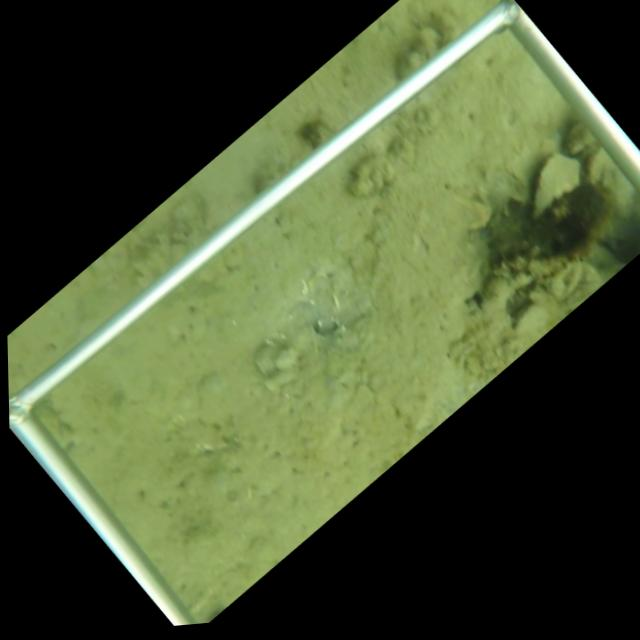Oyster-Indeterminate: (532, 151, 583, 221)
